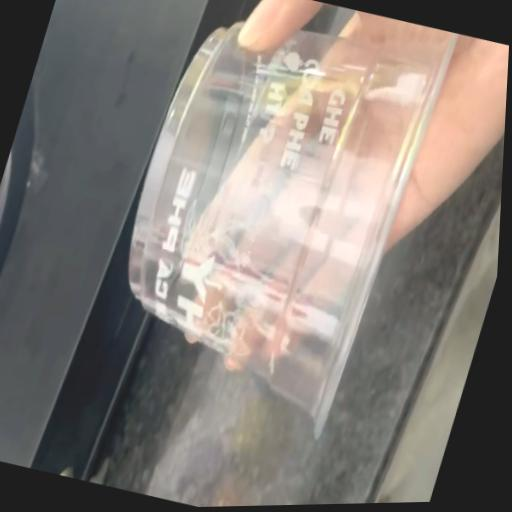ly_nhua: (130, 20, 457, 420)
